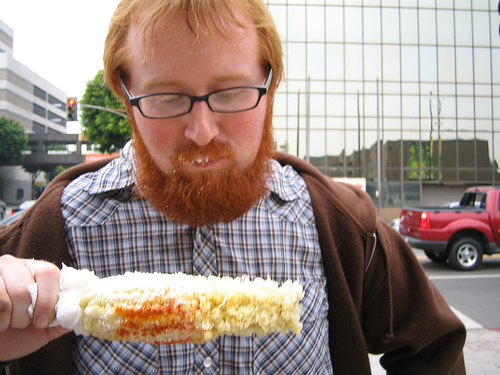corn: (80, 270, 305, 345)
